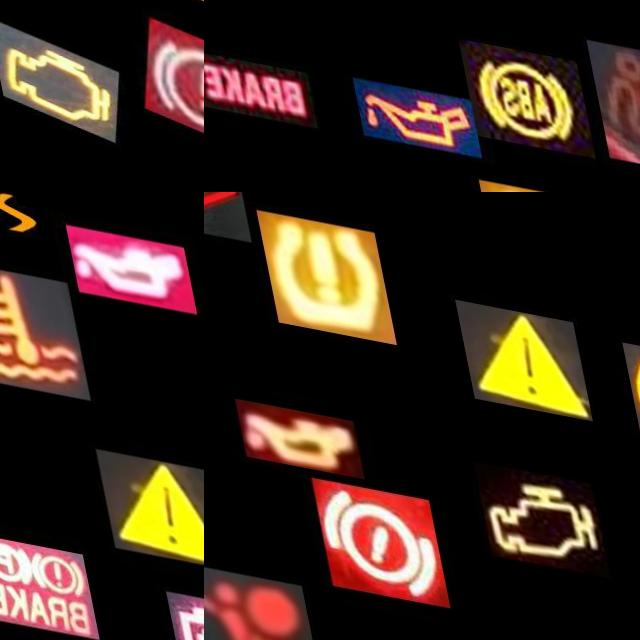Central Warning lamp: (449, 285, 583, 402), (80, 442, 204, 559)
Engine cooling system: (0, 259, 77, 394), (441, 616, 577, 640)
